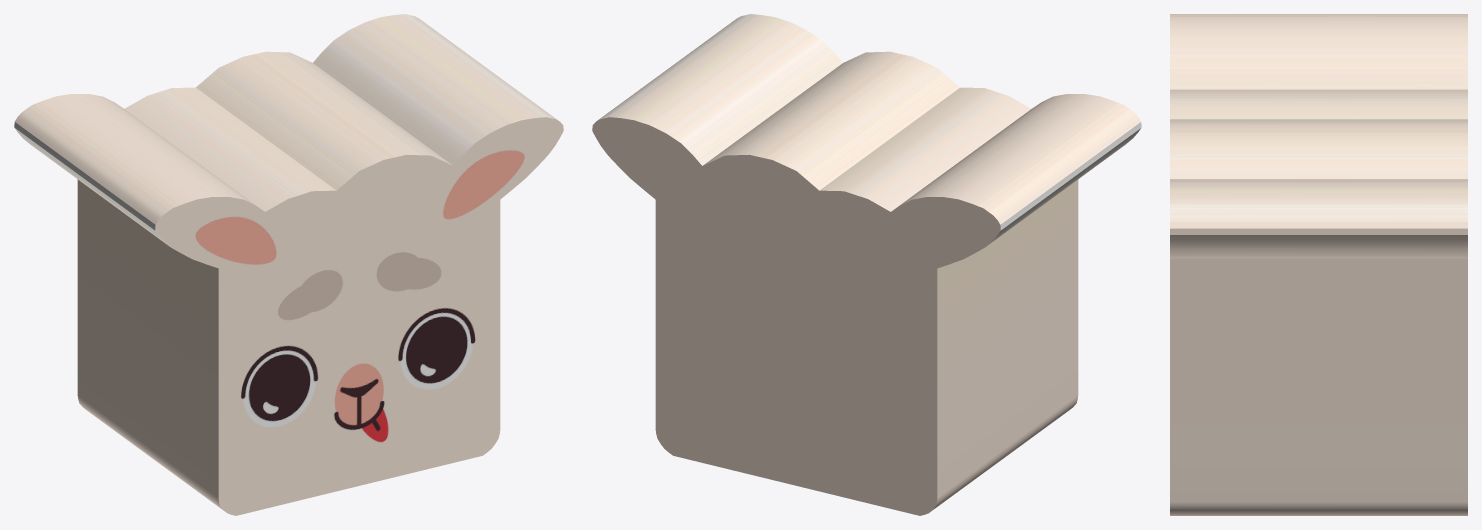
Rendered from Sheeep.obj.
3 views of the same model, side by side, from view 1: azimuth 30°, elevation 25°; view 2: azimuth 150°, elevation 25°; view 3: azimuth 270°, elevation 25° (orthographic). The views are drawn at different scales.
Visible parts, largest first — view 1: Sheep; view 2: Sheep; view 3: Sheep.
Boxes of the visible parts, box(x1,y1,x2,y2) form: Sheep: box(14, 14, 563, 515); Sheep: box(592, 14, 1141, 515); Sheep: box(1170, 14, 1467, 515).
Size of the model in its own units: 7.77 by 5.92 by 4.64.
